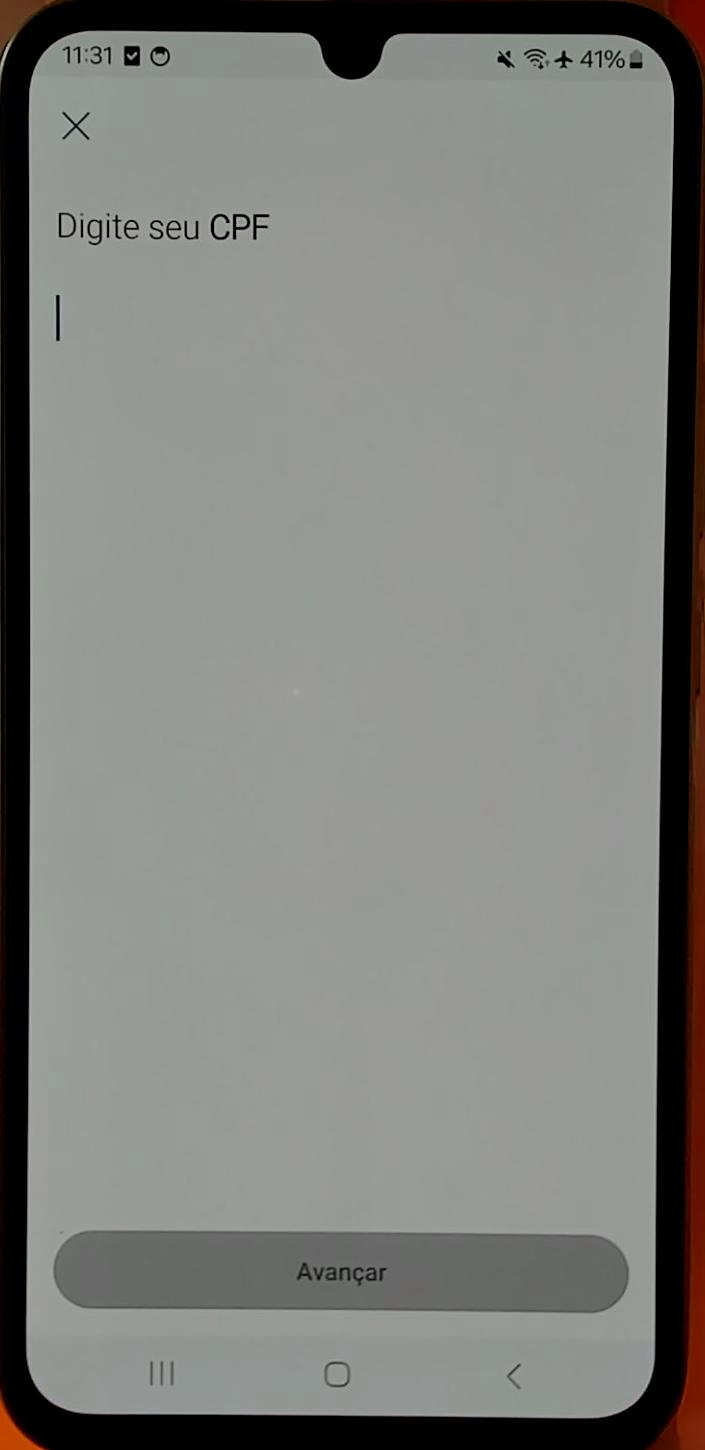CommunBotton: (42, 1222, 636, 1318), (60, 106, 96, 150)
